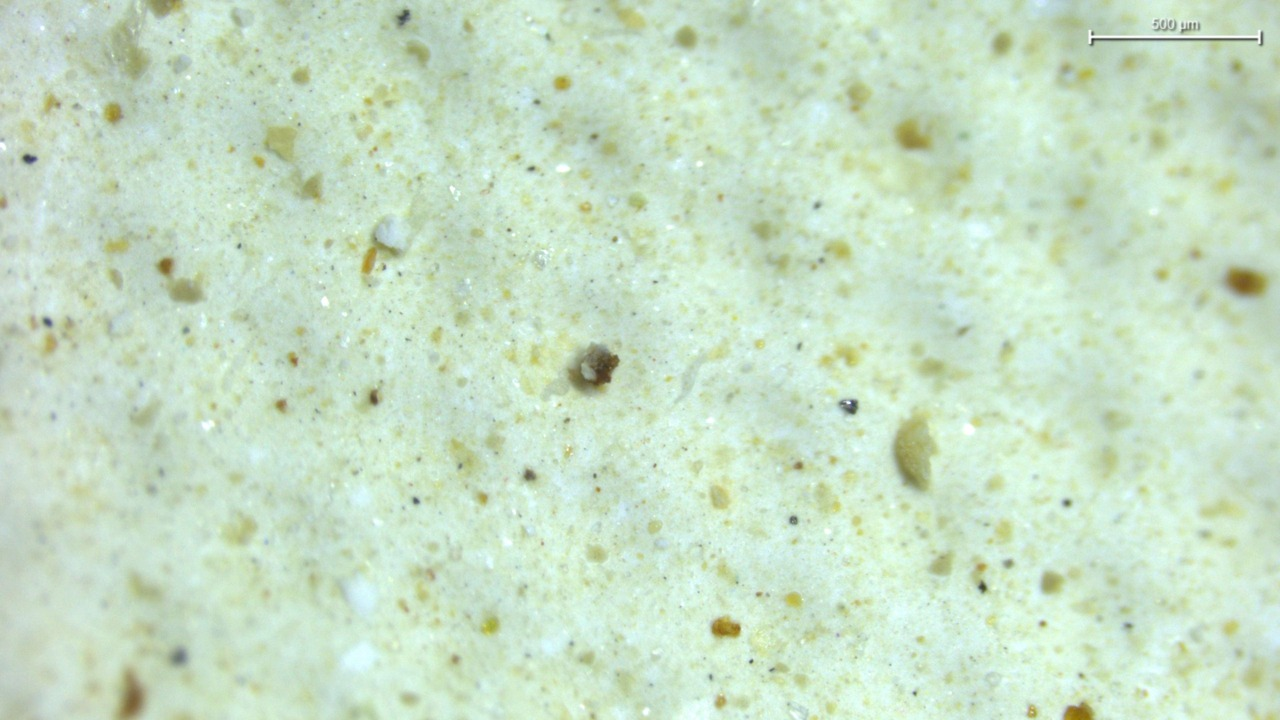microplastic_fragment: (893, 411, 938, 490), (374, 215, 411, 253)
